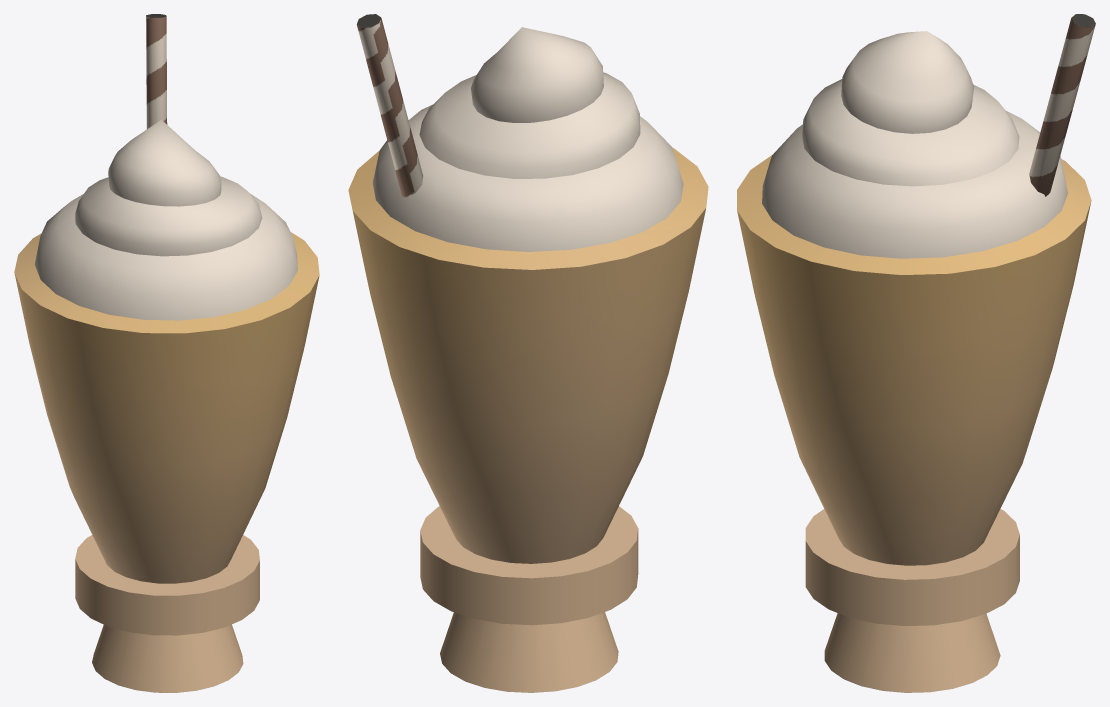
Rendered from Milkshake_01.obj.
The picture shows the model from 3 angles, left to right: view 1: azimuth 30°, elevation 25°; view 2: azimuth 150°, elevation 25°; view 3: azimuth 270°, elevation 25°; orthographic projection. The views are drawn at different scales.
Parts seen in each view (by area): view 1: Milkshake_01; view 2: Milkshake_01; view 3: Milkshake_01.
Part boxes in pixels (x1,y1,x2,y2): Milkshake_01: [14, 14, 319, 692]; Milkshake_01: [348, 14, 708, 692]; Milkshake_01: [737, 14, 1095, 692].
Size of the model in its own units: 1.96 by 4.1 by 1.98.
